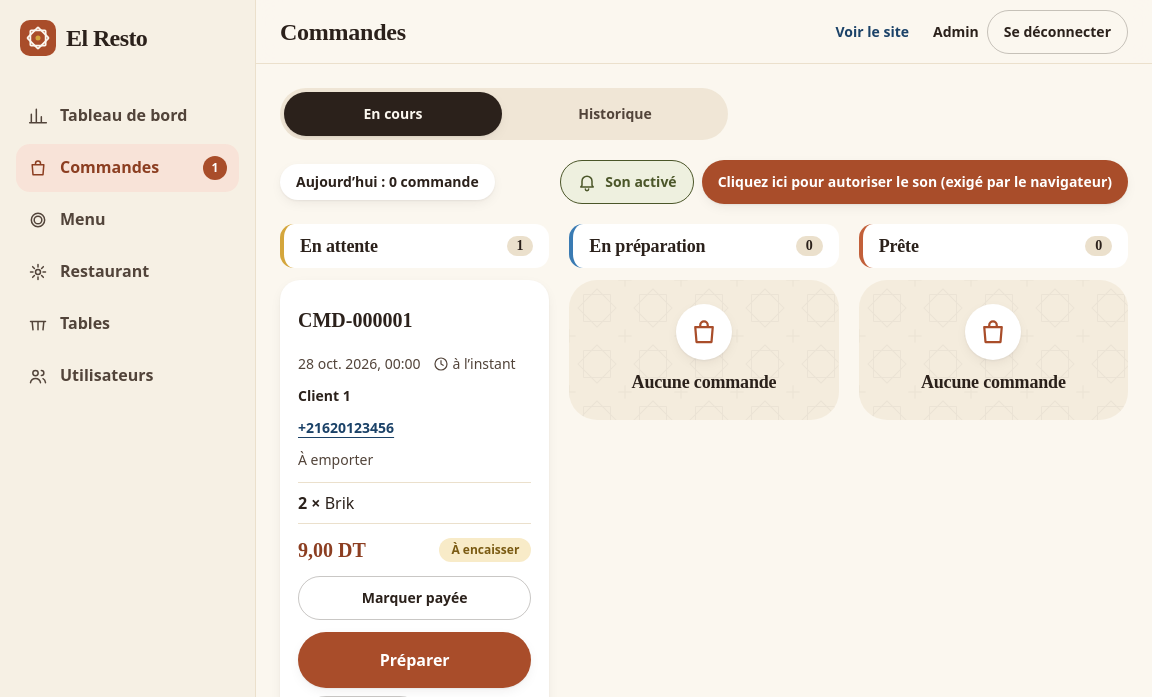
écran des commandes › avance une commande en envoyant la version, de façon optimiste
Click the button "Préparer".
click(415, 660)  # box [298,632,531,688]
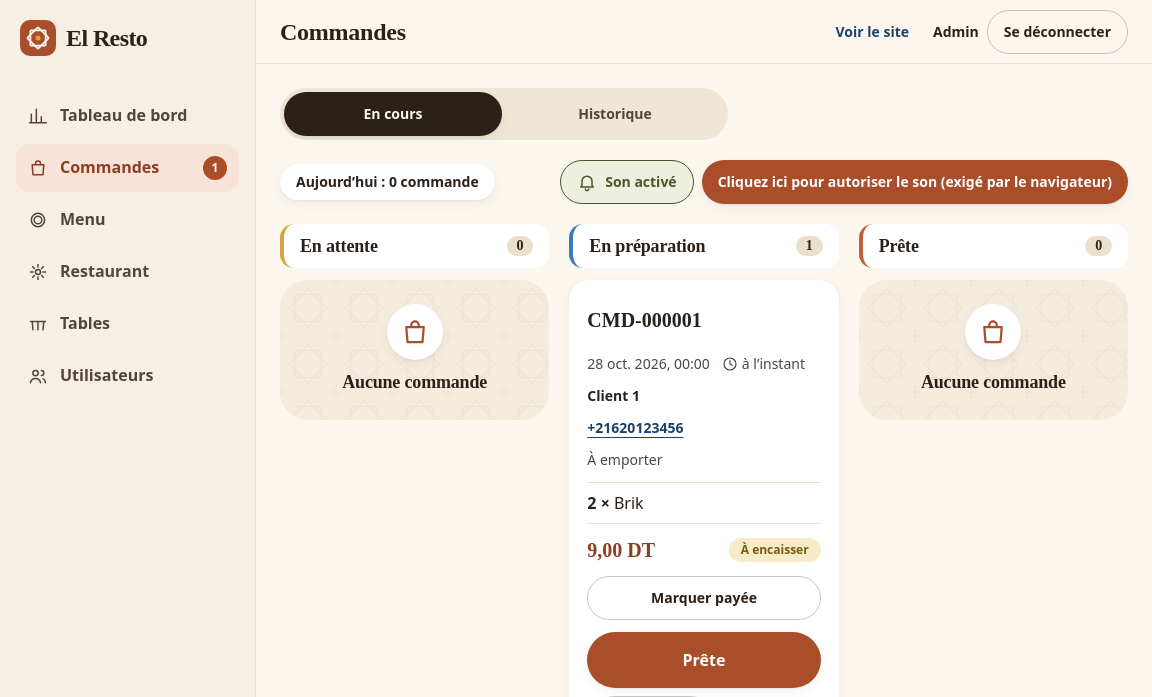
Result: the button "Prête" is shown at [587,632,821,688]
